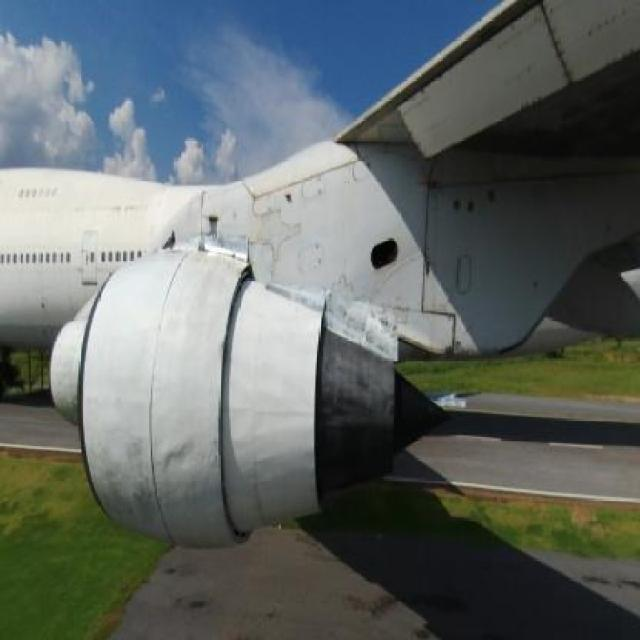Scartch: (105, 423, 173, 532)
